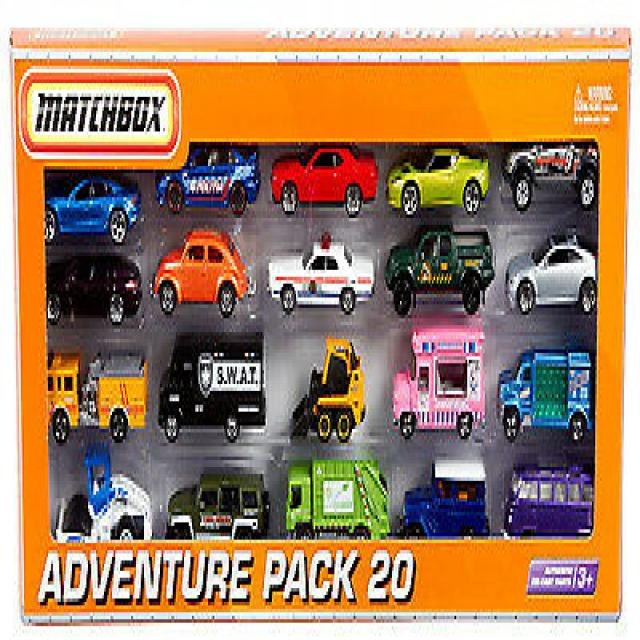Car: (384, 221, 494, 315), (496, 346, 595, 443), (150, 225, 253, 318), (268, 228, 374, 315), (504, 228, 597, 315), (154, 138, 260, 214), (268, 142, 378, 214), (165, 467, 270, 540), (46, 249, 142, 325), (43, 173, 141, 246), (386, 146, 490, 214), (504, 460, 594, 536), (499, 142, 597, 211)
